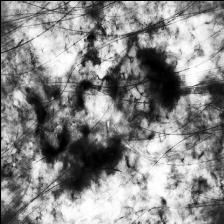Potentially Malignant Skin Tumors: (28, 34, 178, 190)
